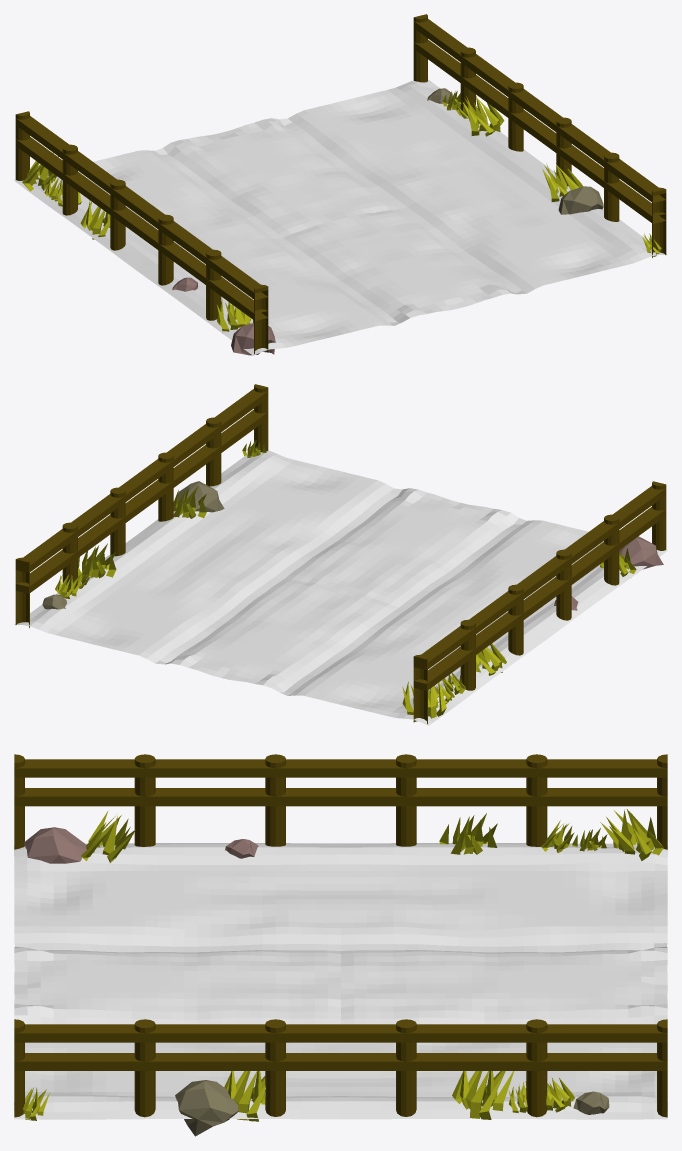
File: way.fbx
3 views of the same model, one above another, from view 1: azimuth 30°, elevation 25°; view 2: azimuth 150°, elevation 25°; view 3: azimuth 270°, elevation 25° (orthographic). The views are drawn at different scales.
Parts seen in each view (by area): view 1: Plane1, Plane.001, Cone, Icosphere, Icosphere.001; view 2: Plane1, Plane.001, Cone, Icosphere, Icosphere.001; view 3: Plane1, Plane.001, Cone, Icosphere, Icosphere.001.
Part boxes in pixels (x1,y1,x2,y2): Plane1: [14, 79, 667, 355]; Plane.001: [15, 14, 666, 354]; Cone: [22, 90, 661, 333]; Icosphere: [427, 88, 603, 214]; Icosphere.001: [172, 277, 275, 355]; Plane1: [14, 450, 667, 725]; Plane.001: [15, 384, 666, 724]; Cone: [55, 440, 636, 718]; Icosphere: [42, 481, 224, 609]; Icosphere.001: [554, 536, 663, 610]; Plane1: [14, 843, 667, 1119]; Plane.001: [14, 754, 667, 1117]; Cone: [23, 809, 663, 1121]; Icosphere: [175, 1080, 609, 1136]; Icosphere.001: [24, 827, 258, 863].
Size of the model in its own units: 1038 by 185 by 1001.
